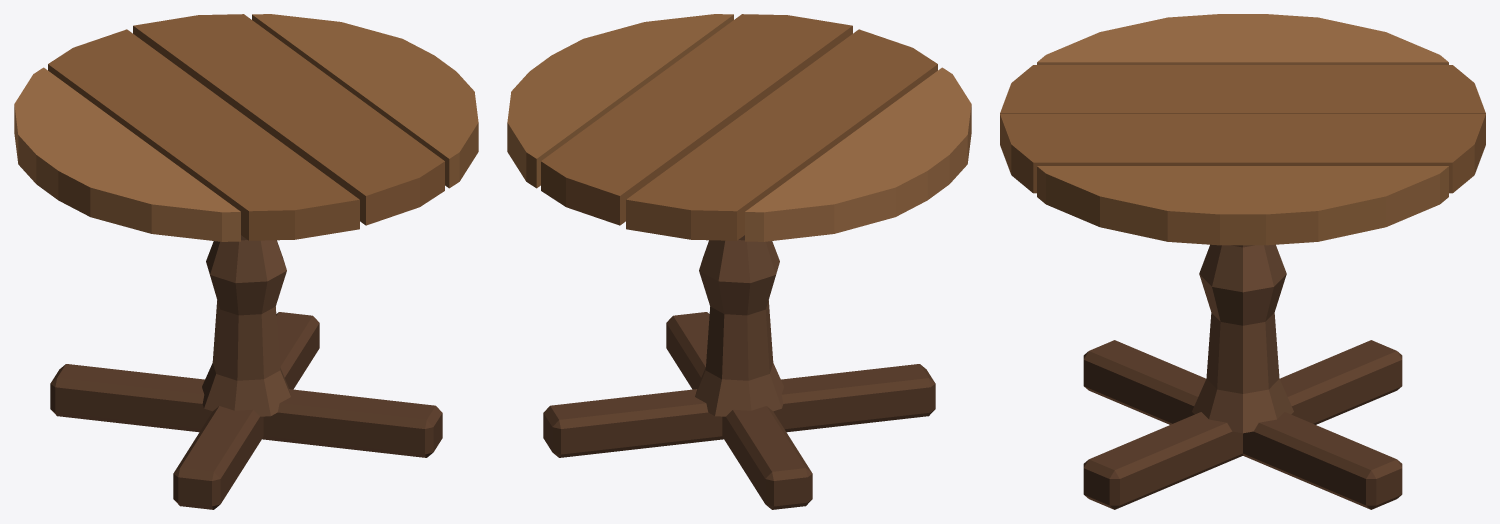
Rendered from round_table.glb.
The picture shows the model from 3 angles, left to right: view 1: azimuth 30°, elevation 25°; view 2: azimuth 150°, elevation 25°; view 3: azimuth 270°, elevation 25°; orthographic projection. The views are drawn at different scales.
Visible parts, largest first — view 1: Wood, Frame; view 2: Wood, Frame; view 3: Wood, Frame.
Part boxes in pixels (box(x1,y1,x2,y2)): Wood: box(14, 14, 478, 241); Frame: box(50, 235, 442, 509); Wood: box(507, 14, 971, 241); Frame: box(543, 235, 935, 509); Wood: box(1000, 14, 1485, 245); Frame: box(1083, 244, 1402, 509).
Bounding box in the file's own units: 3.94 × 3.01 × 3.99.
2 materials, 2 textured.
